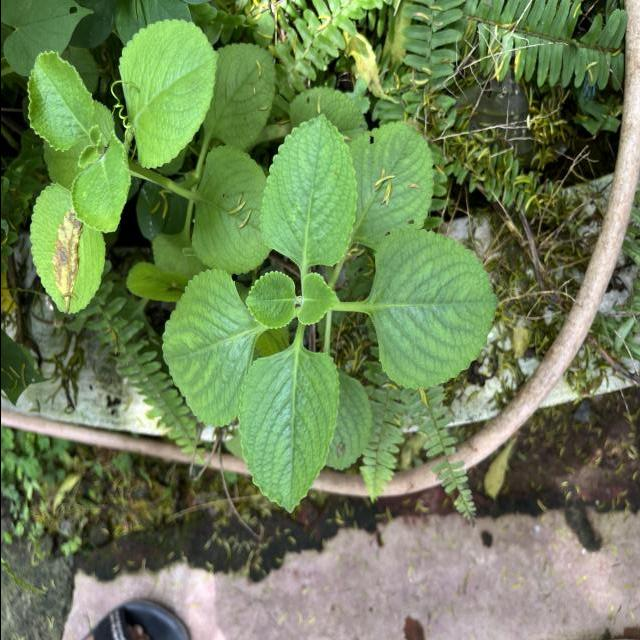Plectranthus barbatus: (368, 226, 500, 391), (238, 346, 340, 516), (258, 112, 358, 268), (116, 18, 218, 170), (160, 267, 252, 429), (346, 120, 434, 253), (190, 144, 272, 276), (28, 181, 106, 315), (200, 42, 276, 154), (24, 50, 94, 153), (70, 128, 132, 235), (242, 270, 296, 332), (296, 272, 341, 326)
